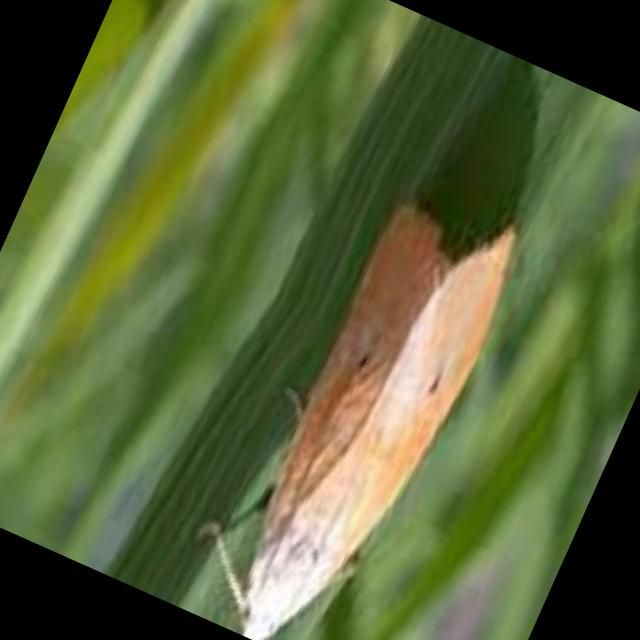stem-borer: (166, 159, 534, 640)
